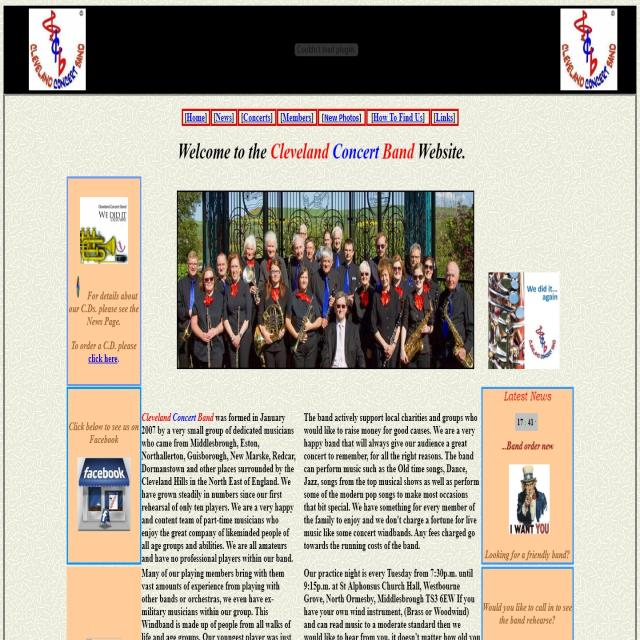button: (367, 110, 429, 125), (318, 110, 364, 126), (240, 110, 275, 128), (278, 110, 316, 126), (183, 108, 210, 126), (212, 109, 236, 129), (431, 112, 458, 126)
heading: (177, 140, 467, 167)
image: (179, 188, 474, 374), (488, 272, 560, 369), (559, 6, 618, 93), (28, 9, 86, 90), (81, 198, 129, 262), (510, 466, 551, 537)
link: (89, 352, 118, 367)
text: (142, 407, 294, 640), (302, 408, 480, 556), (301, 564, 479, 640)
